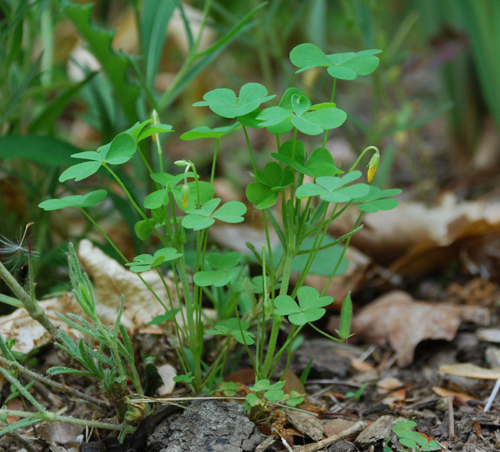oxalis: (257, 40, 412, 231), (74, 106, 256, 247), (283, 281, 356, 347)
